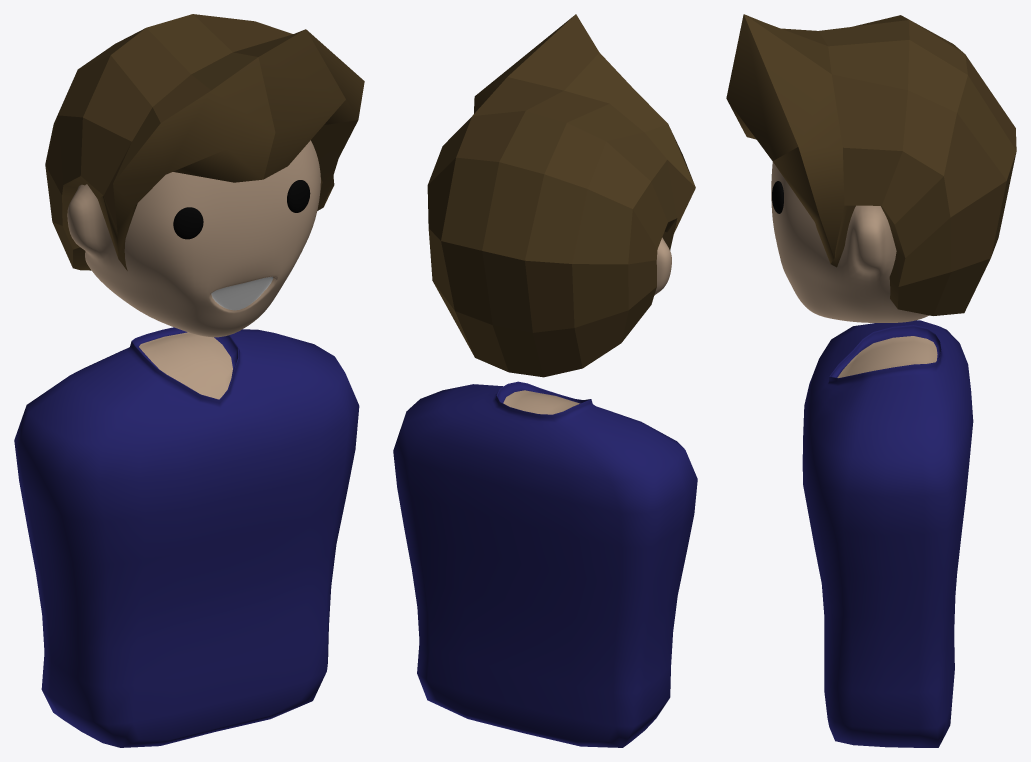
File: avatarMale.glb
The picture shows the model from 3 angles, left to right: view 1: azimuth 30°, elevation 25°; view 2: azimuth 150°, elevation 25°; view 3: azimuth 270°, elevation 25°; orthographic projection. The views are drawn at different scales.
Visible parts, largest first — view 1: Body, Head; view 2: Body, Head; view 3: Head, Body.
Part boxes in pixels (x1,y1,x2,y2): Body: [14, 327, 359, 747]; Head: [45, 14, 364, 337]; Body: [393, 381, 697, 747]; Head: [427, 14, 695, 377]; Head: [726, 14, 1016, 322]; Body: [802, 320, 973, 747].
Size of the model in its own units: 0.3865 by 0.8658 by 0.3207.
